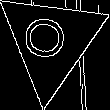O_E: (25, 17, 77, 66)
